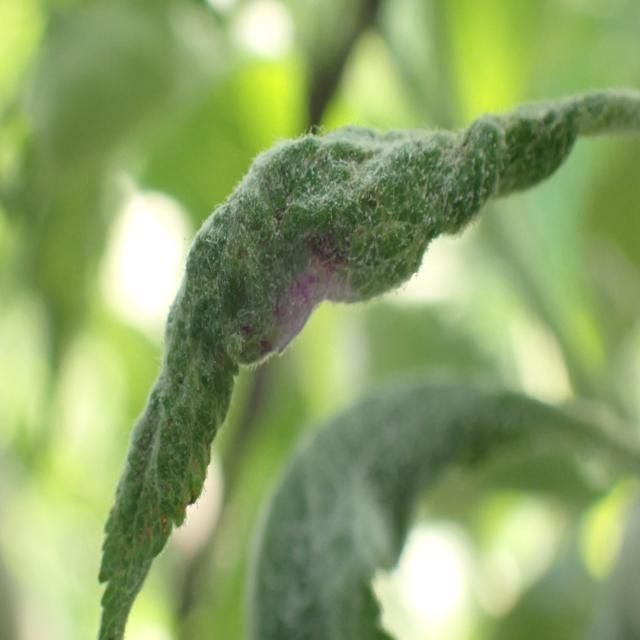Powdery_mildew: (88, 66, 640, 640)
